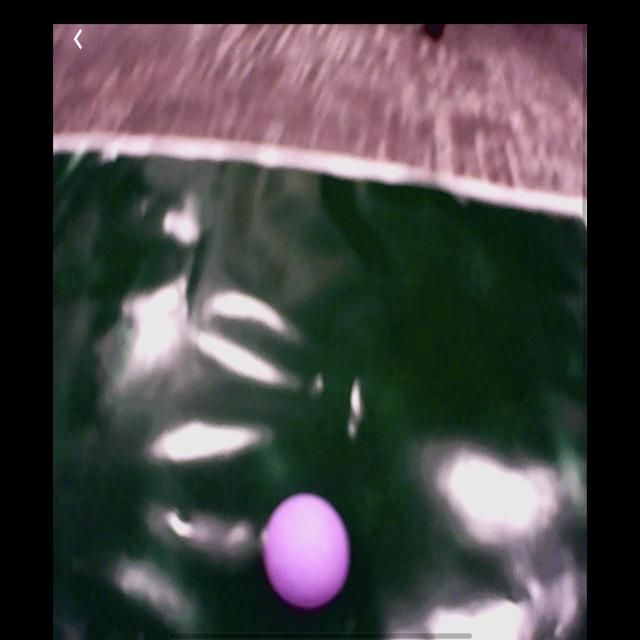ball: (262, 493, 350, 609)
